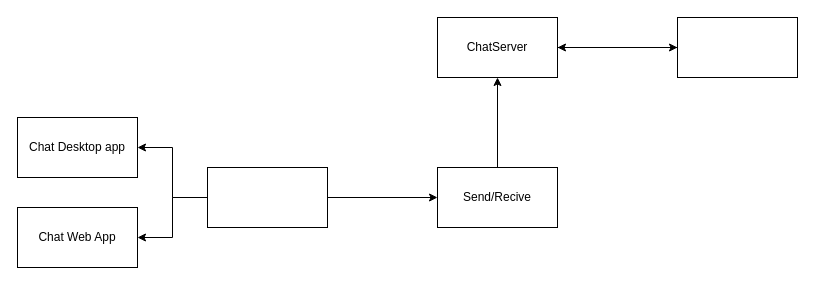
Some shapes in this 815 by 285 pixel diagram are drawn without their labels. The shapes that lost their labels are listed below. From the top down, each one's centre as x and y in pixels, then its label:
At (737,47): "DataBase".
At (267,197): "Inetrface".
